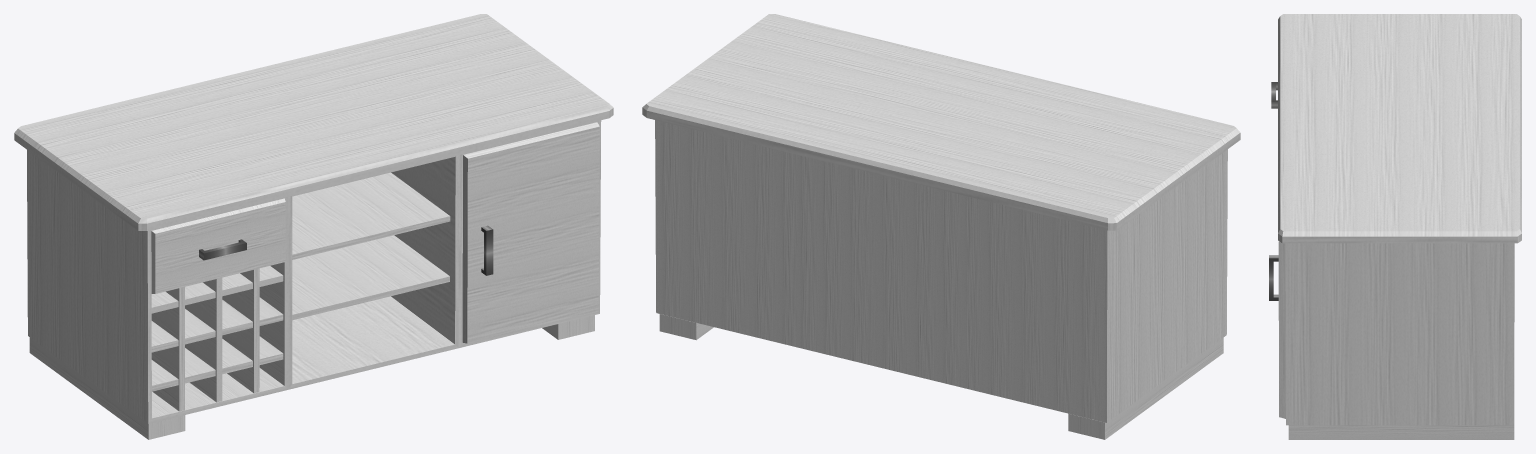
The model's file is Buffet_B.FBX.
3 views of the same model, side by side, from view 1: azimuth 30°, elevation 25°; view 2: azimuth 150°, elevation 25°; view 3: azimuth 270°, elevation 25° (orthographic). The views are drawn at different scales.
Visible parts, largest first — view 1: Buffet; view 2: Buffet; view 3: Buffet.
Part boxes in pixels (bbox=[...]): Buffet: bbox=[14, 14, 613, 439]; Buffet: bbox=[642, 14, 1240, 439]; Buffet: bbox=[1269, 14, 1521, 439].
Bounding box in the file's own units: 338 × 153 × 164.
